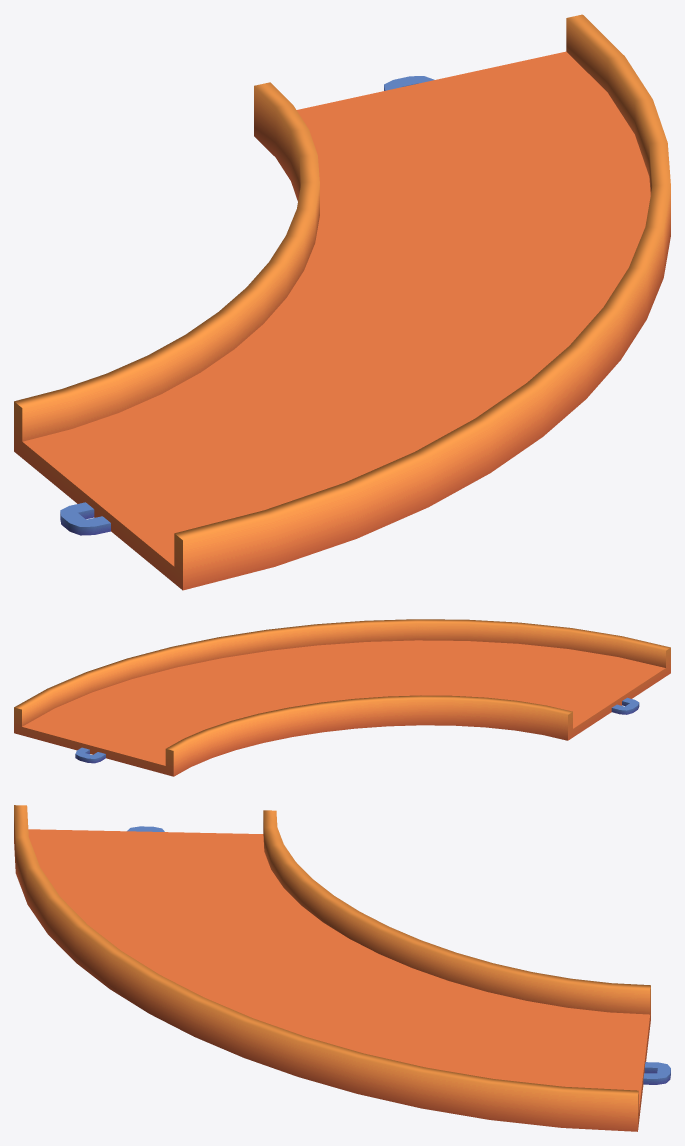
File: track-wide-corner-large.glb
The picture shows the model from 3 angles, top to bottom: view 1: azimuth 30°, elevation 25°; view 2: azimuth 150°, elevation 25°; view 3: azimuth 270°, elevation 25°; orthographic projection. The views are drawn at different scales.
Visible parts, largest first — view 1: track-wide-corner-large; view 2: track-wide-corner-large; view 3: track-wide-corner-large.
Boxes of the visible parts, <box> form: track-wide-corner-large: <box>14,14,670,590</box>; track-wide-corner-large: <box>14,619,670,776</box>; track-wide-corner-large: <box>14,805,670,1131</box>.
Bounding box in the file's own units: 5.39 × 0.3 × 5.
1 material, 1 textured.
